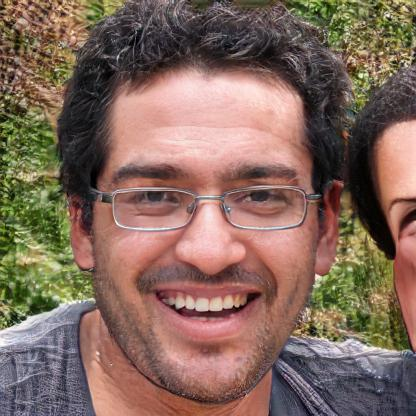glasses: (96, 181, 318, 233)
